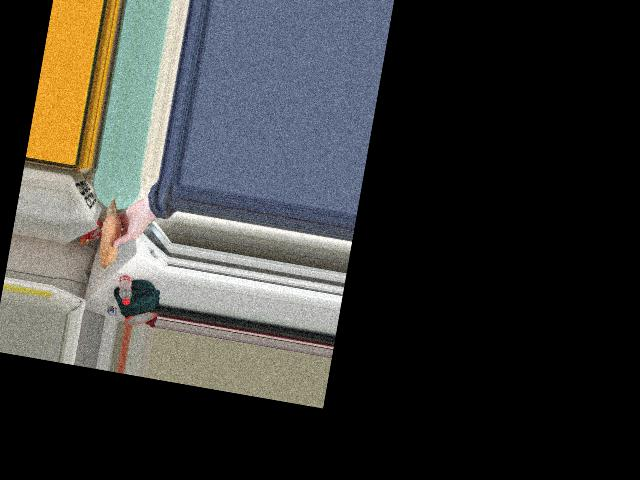sweet_potato: (97, 203, 128, 262)
